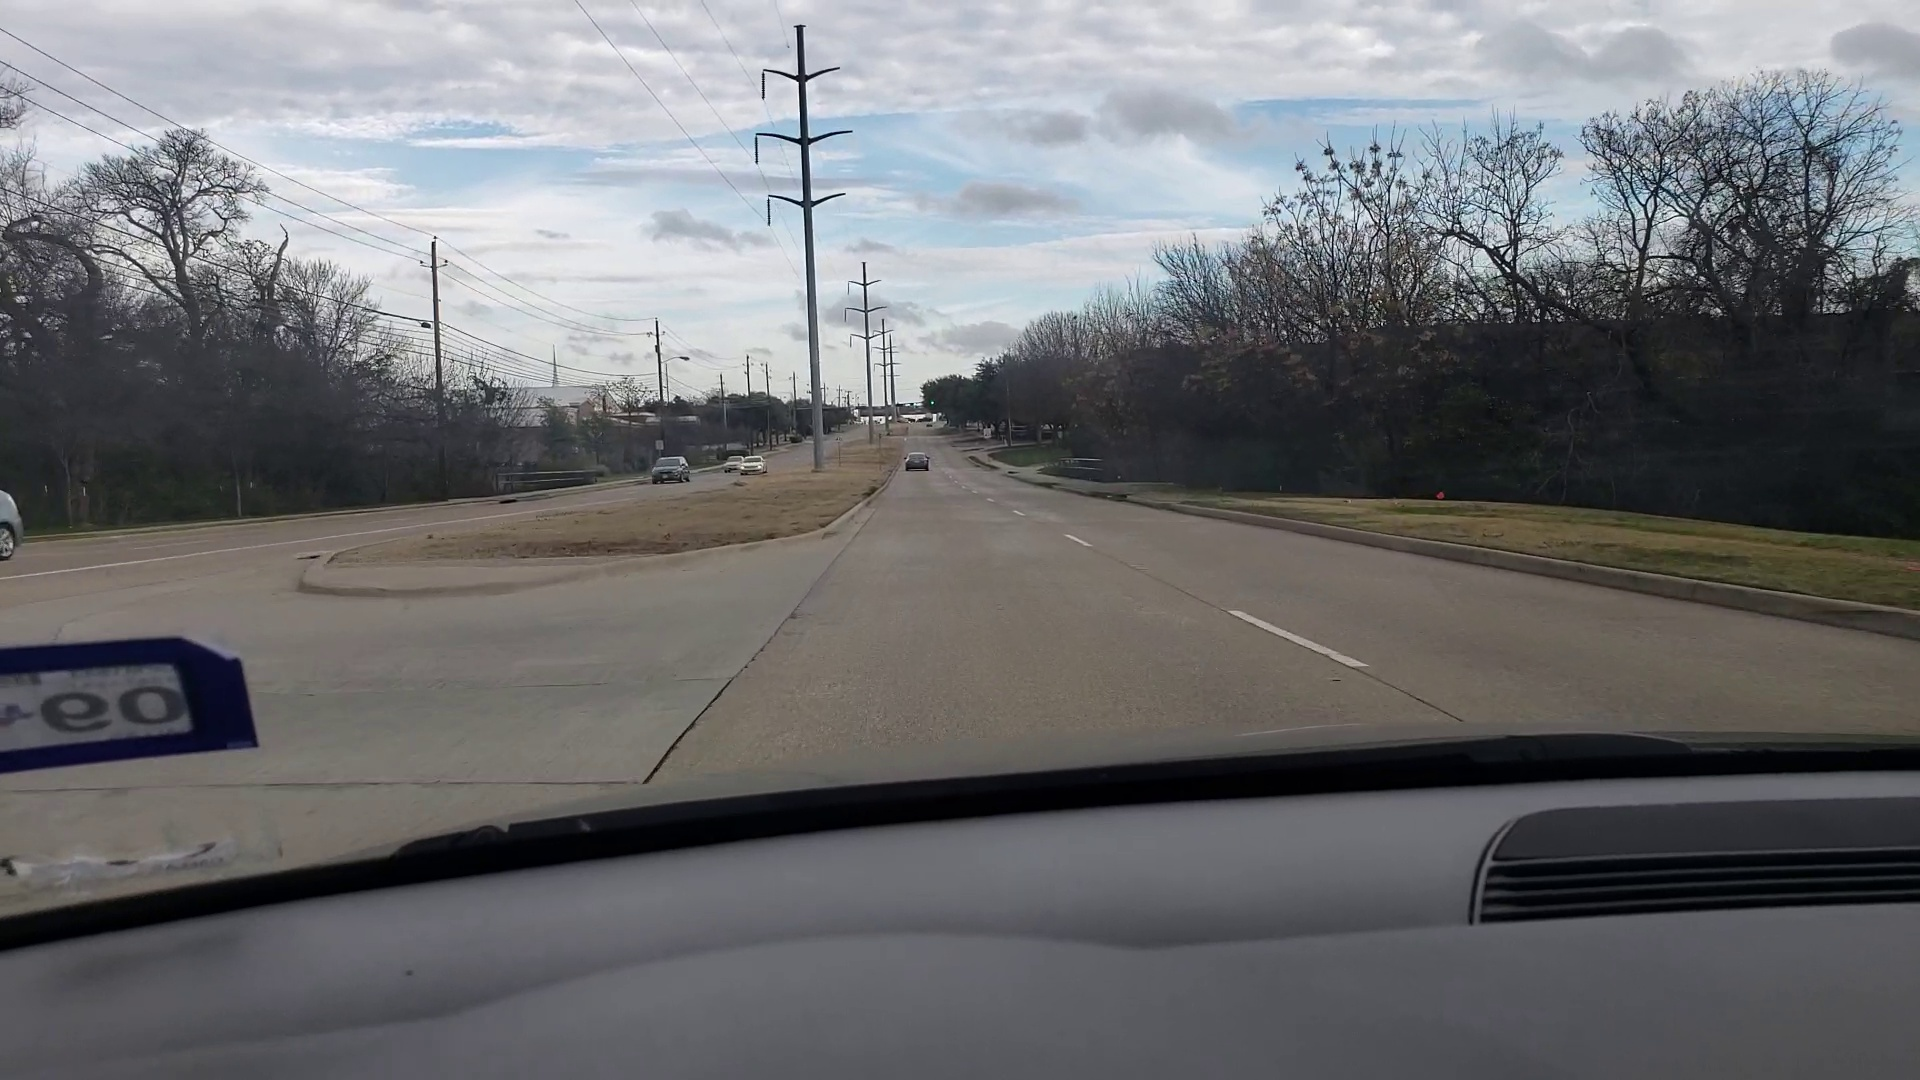car: (650, 456, 692, 484), (903, 451, 932, 469), (738, 458, 766, 475), (721, 454, 744, 472)
